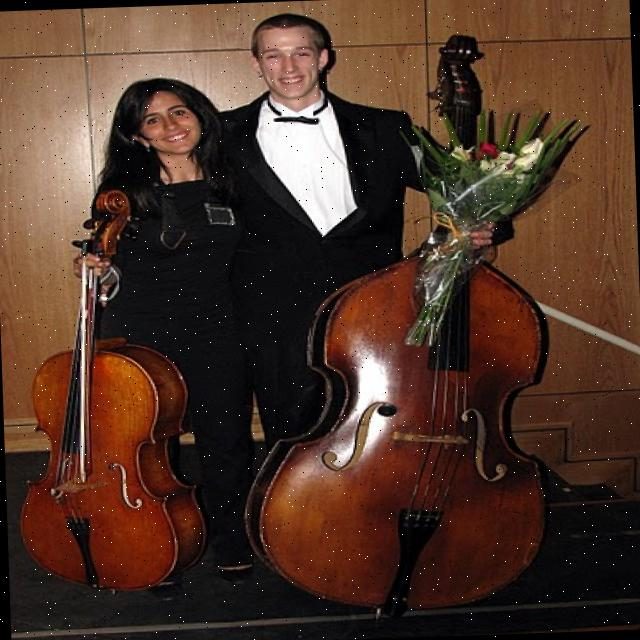cello: (0, 183, 211, 596)
